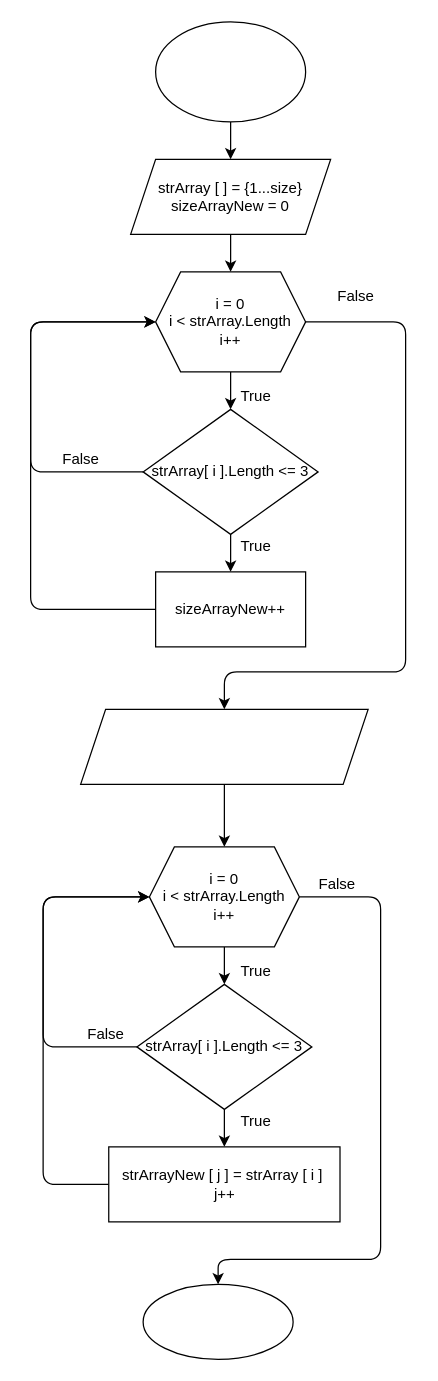
This 438x1381 diagram has some shape labels left out. Each missing label, with the centre of its shape:
"End" goes at (217,1321).
"Start" goes at (230,71).
"strArrayNew [ ] = {1..sizeArrayNew} j = 0" goes at (223,746).
